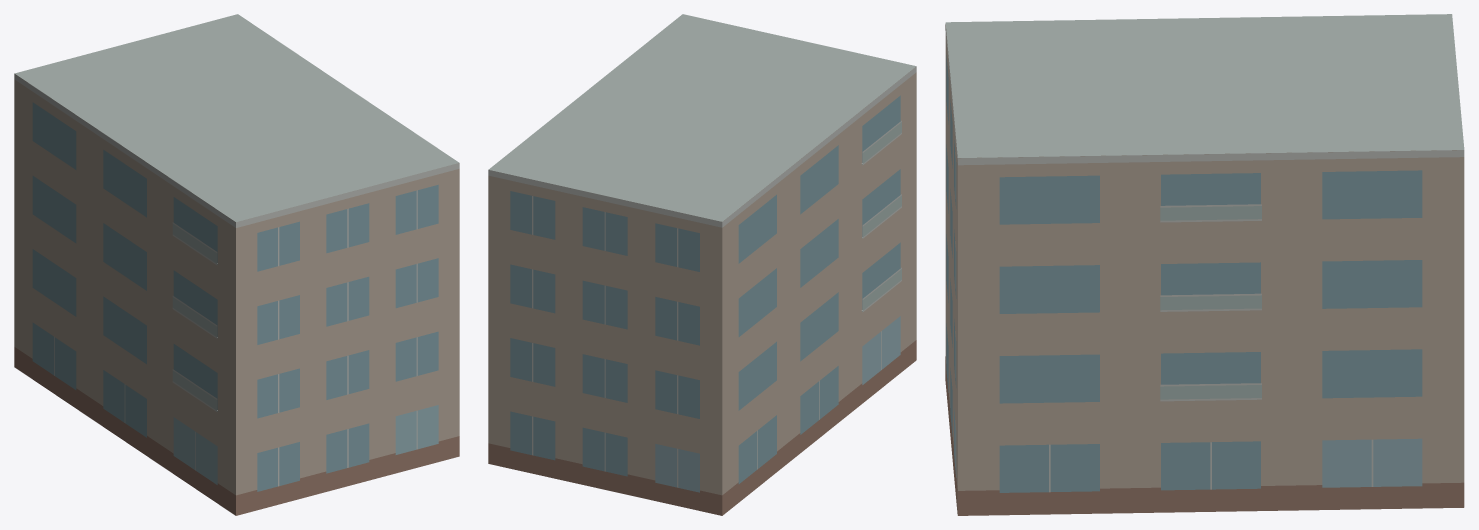
File: survey-upis-32705668.glb
The picture shows the model from 3 angles, left to right: view 1: azimuth 30°, elevation 25°; view 2: azimuth 150°, elevation 25°; view 3: azimuth 270°, elevation 25°; orthographic projection. The views are drawn at different scales.
Parts seen in each view (by area): view 1: survey-upis-32705668.tmp; view 2: survey-upis-32705668.tmp; view 3: survey-upis-32705668.tmp.
Boxes of the visible parts, x1=… form: survey-upis-32705668.tmp: x1=14, y1=14, x2=459, y2=515; survey-upis-32705668.tmp: x1=488, y1=14, x2=916, y2=515; survey-upis-32705668.tmp: x1=945, y1=14, x2=1464, y2=515.
Bounding box in the file's own units: 10.55 × 12.2 × 16.05.
